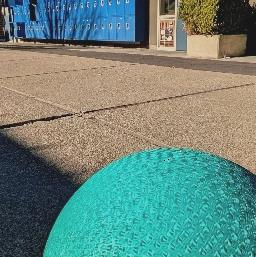algae: (43, 145, 256, 257)
